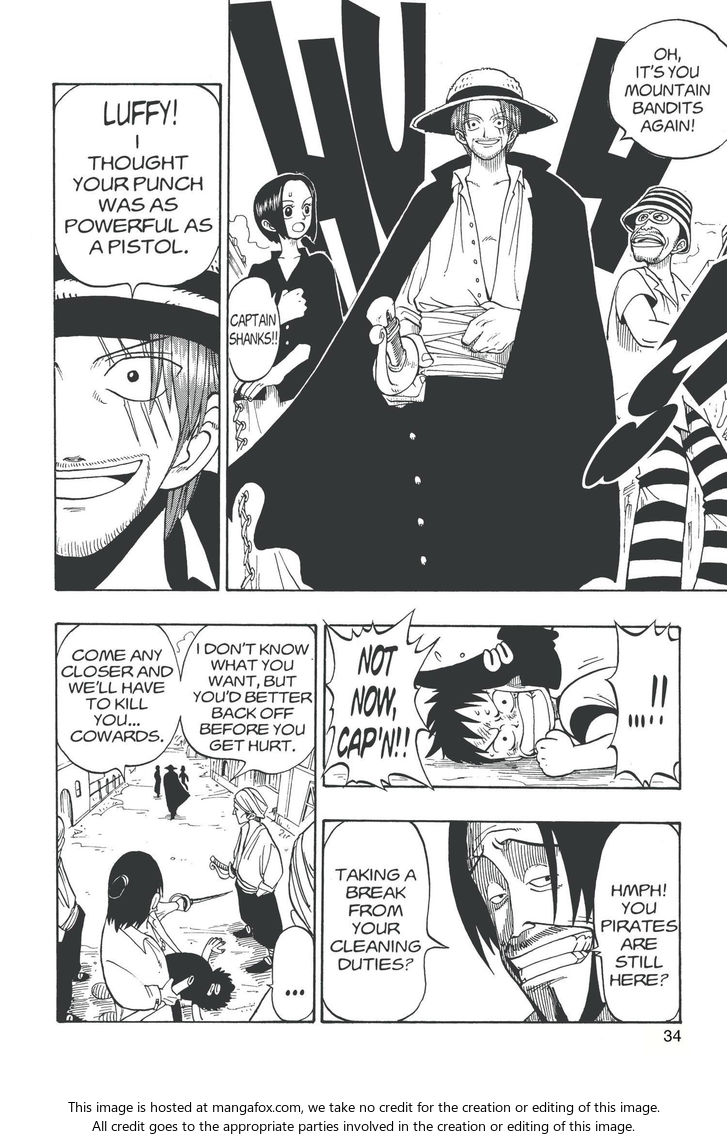bubble: (54, 83, 221, 297), (322, 819, 448, 1022), (320, 608, 439, 791), (181, 624, 317, 781), (55, 623, 181, 781), (590, 822, 681, 1022), (608, 18, 728, 159), (606, 620, 680, 788), (227, 275, 281, 383), (267, 926, 315, 1022)
